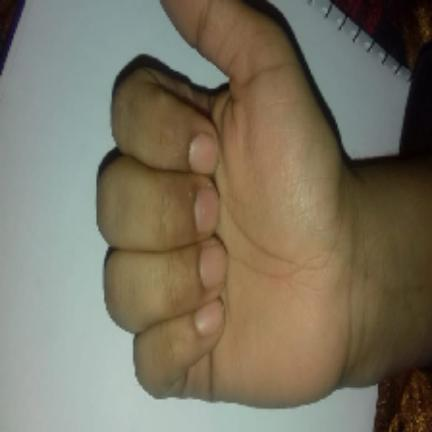Nail: (197, 240, 227, 290), (193, 186, 219, 235), (189, 133, 218, 175), (192, 302, 225, 335)
